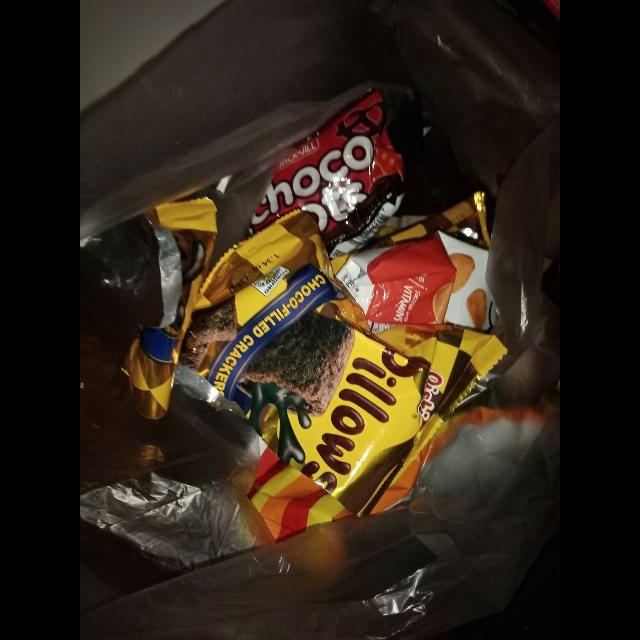food_wrapper: (124, 198, 508, 518), (248, 408, 541, 543), (246, 88, 405, 259), (332, 230, 499, 334), (352, 192, 490, 256)
